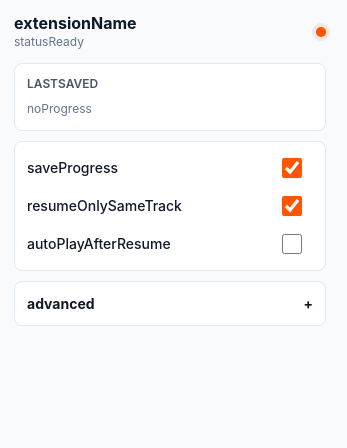
Scenario: Popup › exposes expanded state on the advanced button after load
Click the button "advanced +" at {"x": 61, "y": 303}, box [27,294,313,313]
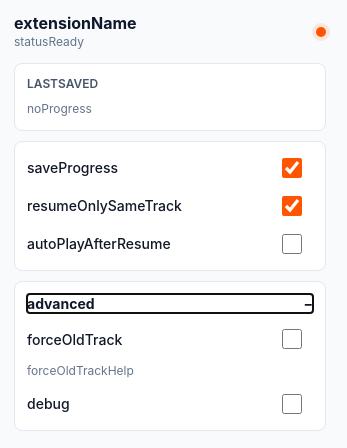
expect the button "advanced −" is expanded: met, box [27,294,313,313]
expect the checkbox labelled "forceOldTrack" is shown: met, box [274,329,310,349]
expect the element with id "advanced-settings" is shown: met, box [27,325,313,418]
